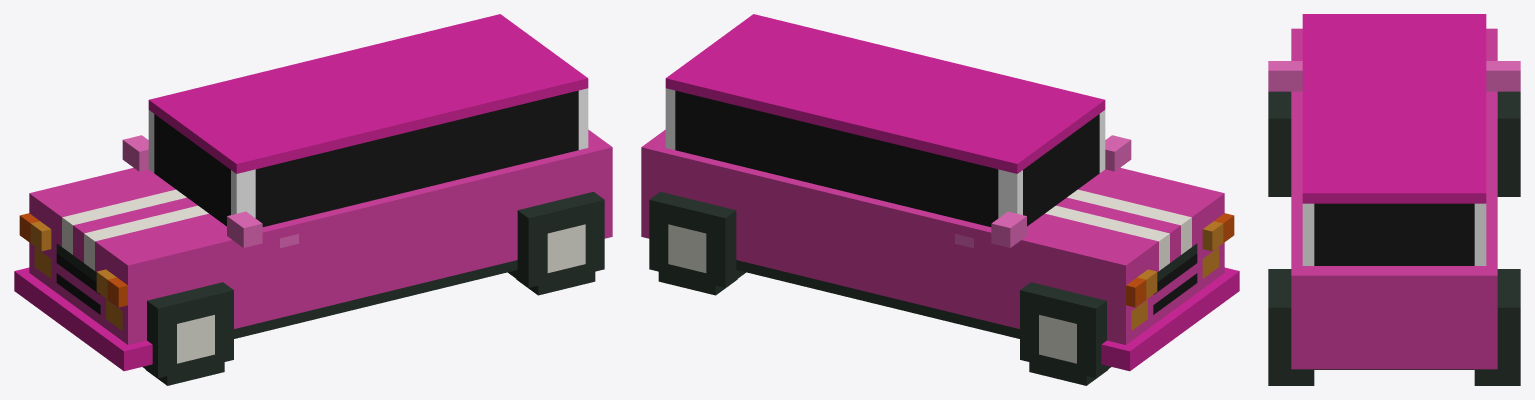
Rendered from car_mili_len_3.glb.
3 renders of one model, left to right at view 1: azimuth 30°, elevation 25°; view 2: azimuth 150°, elevation 25°; view 3: azimuth 270°, elevation 25°, orthographic. The views are drawn at different scales.
Parts seen in each view (by area): view 1: _0; view 2: _0; view 3: _0.
Part boxes in pixels (left/top/right/bottom): _0: left=14, top=14, right=612, bottom=385; _0: left=641, top=14, right=1239, bottom=385; _0: left=1268, top=14, right=1520, bottom=385.
Size of the model in its own units: 0.078 by 0.0285 by 0.033.
